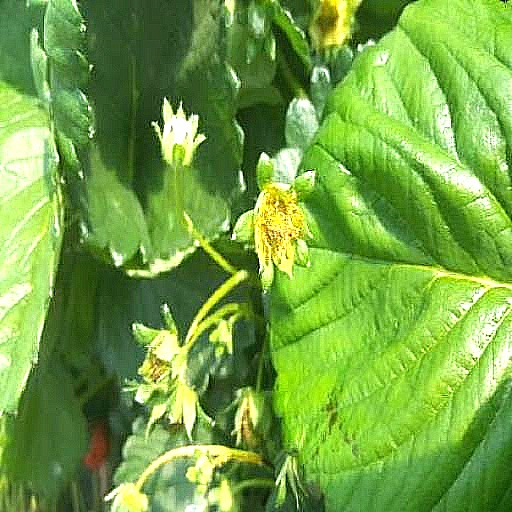Blossom Blight: (251, 183, 309, 272)
